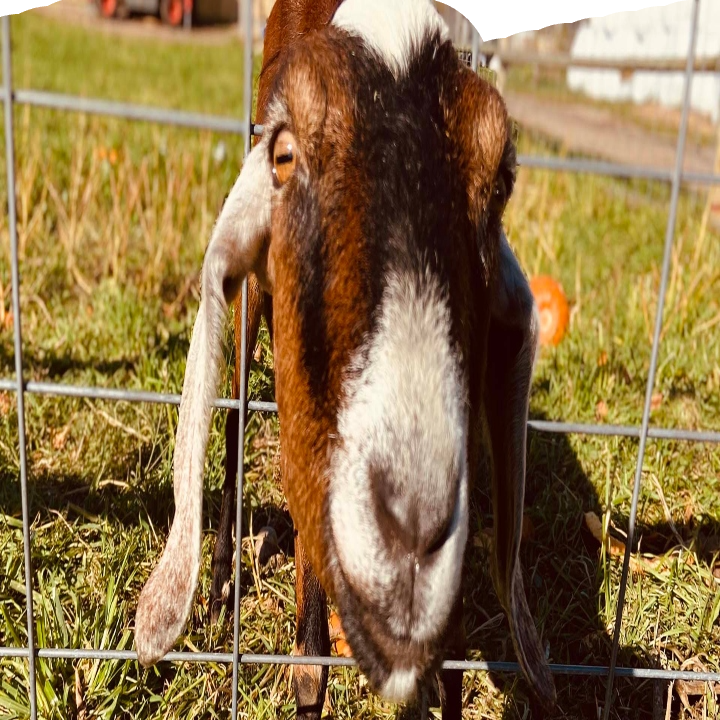Goat: (119, 0, 585, 665)
